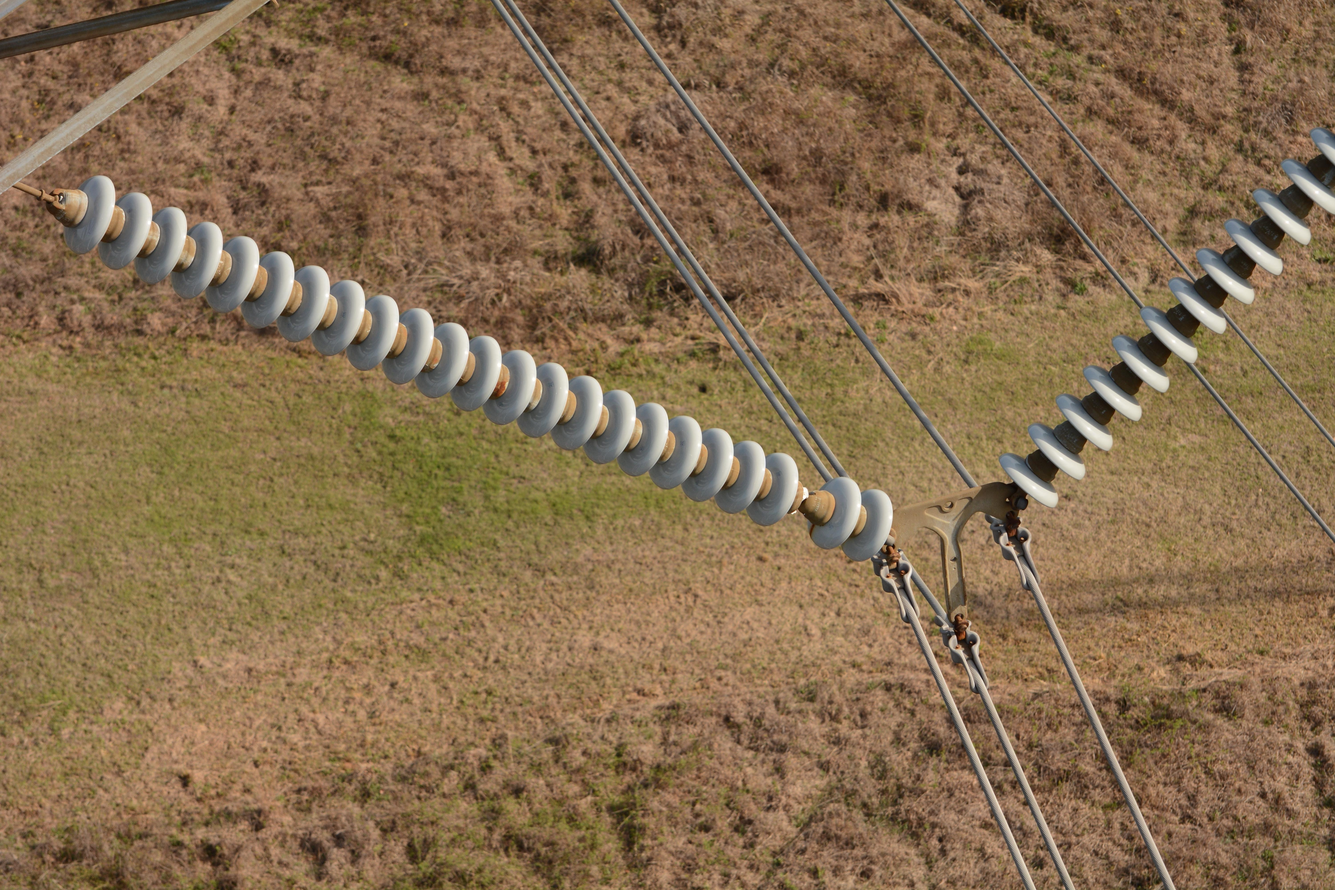damaged: (784, 475, 838, 530)
insulator: (58, 178, 901, 565), (996, 127, 1335, 503)
